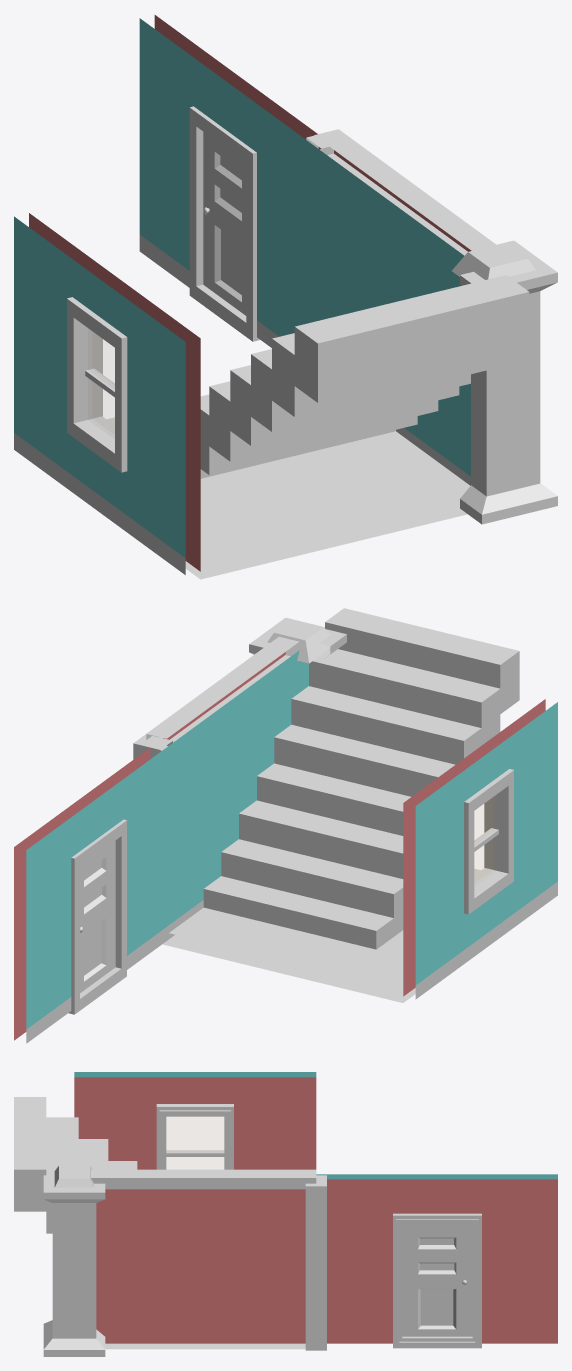
File: Building_Asset_Pack.fbx
The picture shows the model from 3 angles, top to bottom: view 1: azimuth 30°, elevation 25°; view 2: azimuth 150°, elevation 25°; view 3: azimuth 270°, elevation 25°; orthographic projection. The views are drawn at different scales.
Parts seen in each view (by area): view 1: Window_Wall, Stairs, Doorframe_Wall, Floor, Flat Wall, Corner Pillar, Door, Exterior Trim; view 2: Stairs, Window_Wall, Doorframe_Wall, Flat Wall, Floor, Door, Exterior Trim, Corner Pillar, Trim Pillar; view 3: Flat Wall, Doorframe_Wall, Window_Wall, Corner Pillar, Door, Stairs, Exterior Trim, Trim Pillar, Floor.
Part boxes in pixels (x1=…): Window_Wall: x1=14, y1=213, x2=200, y2=574; Stairs: x1=200, y1=275, x2=529, y2=478; Doorframe_Wall: x1=139, y1=15, x2=321, y2=347; Floor: x1=107, y1=394, x2=469, y2=579; Flat Wall: x1=311, y1=144, x2=471, y2=485; Corner Pillar: x1=452, y1=240, x2=557, y2=524; Door: x1=203, y1=132, x2=246, y2=315; Exterior Trim: x1=314, y1=129, x2=496, y2=255; Stairs: x1=203, y1=608, x2=519, y2=949; Window_Wall: x1=403, y1=699, x2=557, y2=999; Doorframe_Wall: x1=14, y1=746, x2=168, y2=1043; Flat Wall: x1=160, y1=650, x2=308, y2=939; Floor: x1=162, y1=868, x2=480, y2=1002; Door: x1=80, y1=840, x2=115, y2=992; Exterior Trim: x1=146, y1=636, x2=298, y2=750; Corner Pillar: x1=249, y1=617, x2=346, y2=663; Trim Pillar: x1=133, y1=734, x2=172, y2=759; Flat Wall: x1=96, y1=1189, x2=305, y2=1343; Doorframe_Wall: x1=316, y1=1174, x2=557, y2=1348; Window_Wall: x1=74, y1=1072, x2=316, y2=1169; Corner Pillar: x1=43, y1=1165, x2=105, y2=1356; Door: x1=402, y1=1225, x2=472, y2=1336; Stairs: x1=14, y1=1097, x2=137, y2=1233; Exterior Trim: x1=91, y1=1169, x2=316, y2=1189; Trim Pillar: x1=305, y1=1175, x2=326, y2=1350; Floor: x1=105, y1=1343, x2=305, y2=1349.
Bounding box in the file's own units: 900 × 323 × 479.
